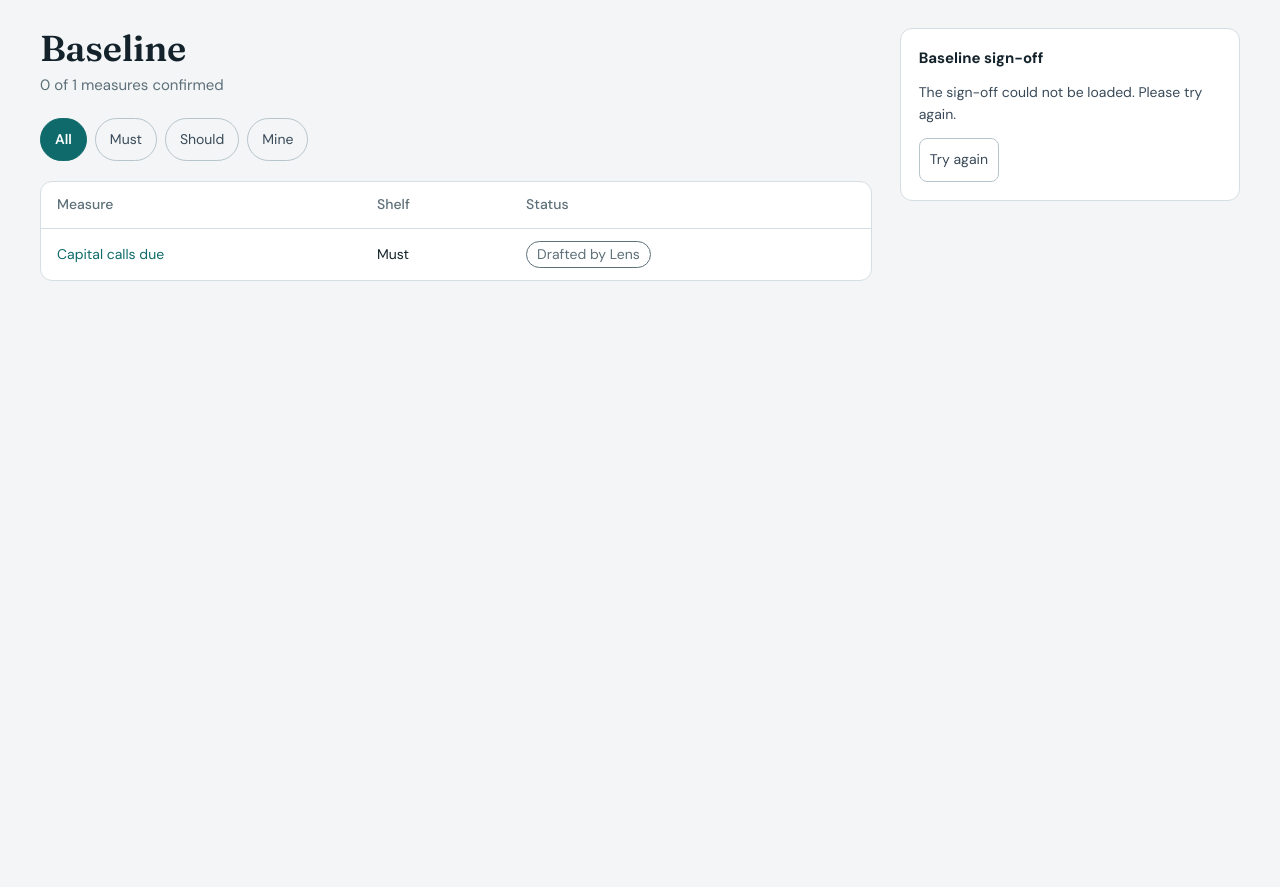
Scenario: baseline page › a guessed value shows its source
Click the button with aria-label "Open: Capital calls due": (111, 254) [57,244,164,265]
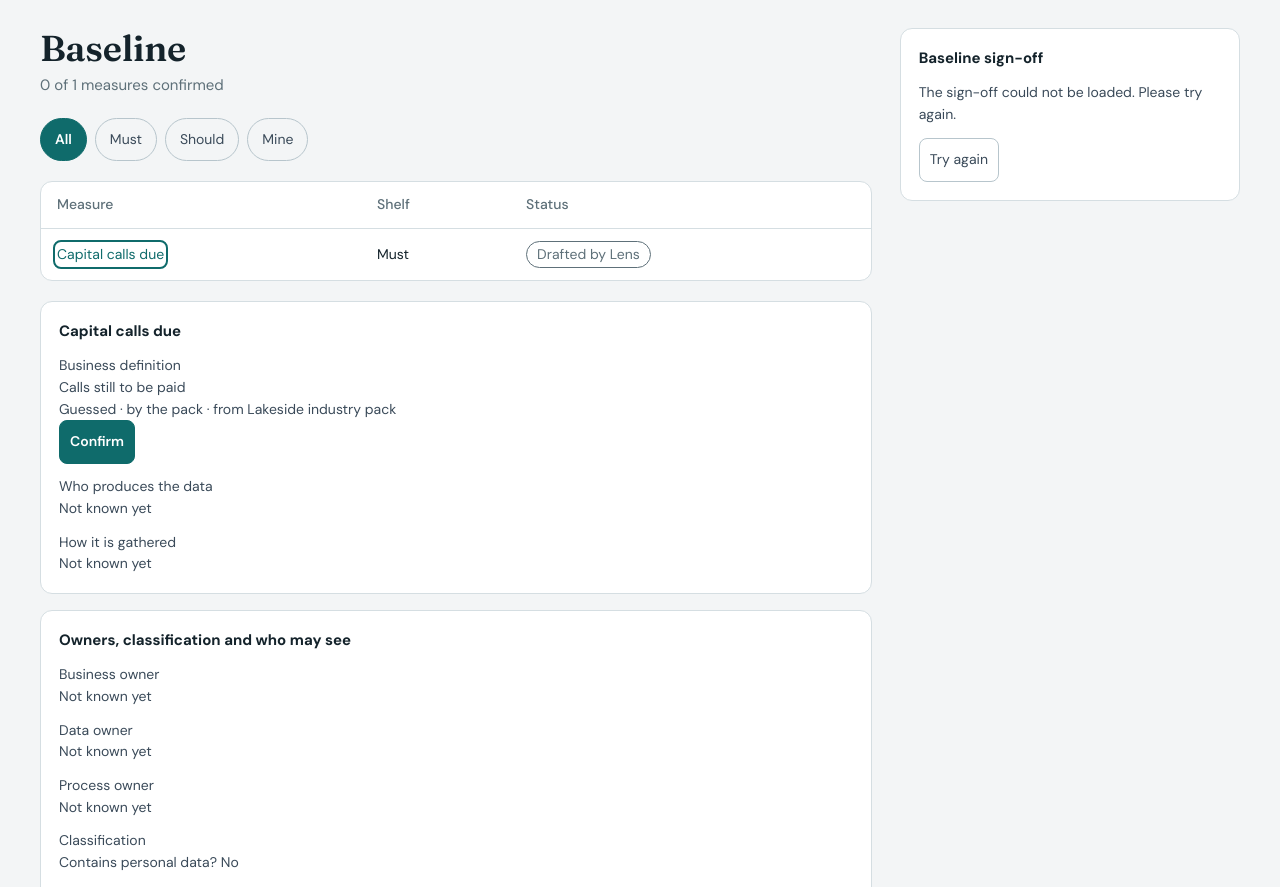
Result: the text "Guessed · by the pack · from Lakeside industry pack" is shown at [59,400,396,418]
